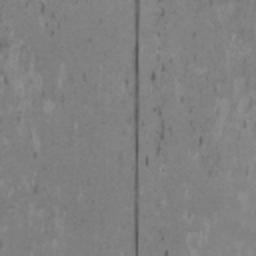Scratches: (134, 0, 140, 256)
